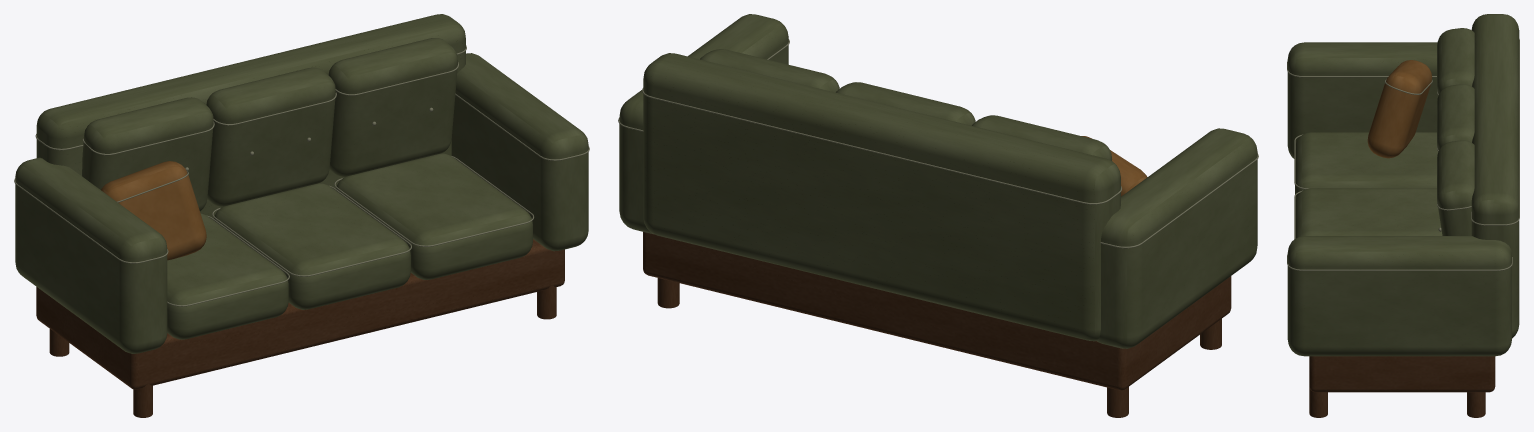
File: couch.glb
3 renders of one model, left to right at view 1: azimuth 30°, elevation 25°; view 2: azimuth 150°, elevation 25°; view 3: azimuth 270°, elevation 25°, orthographic. The views are drawn at different scales.
Visible parts, largest first — view 1: Walnut lower sofa frame, Upholstered arm, Upholstered arm.001, Seat cushion.001, Seat cushion.002, Back cushion.001, Back cushion.002, Upholstered rear frame, Seat cushion, Back cushion, Loose faded ochre pillow, Seat cushion / stitched piping.001 (+3 smaller); view 2: Upholstered rear frame, Walnut lower sofa frame, Upholstered arm, Upholstered arm.001, Back cushion, Back cushion.001, Back cushion.002, Upholstered rear frame / stitched piping, Loose faded ochre pillow, Tapered timber foot.003, Tapered timber foot.001; view 3: Upholstered arm.001, Upholstered rear frame, Upholstered arm, Seat cushion, Walnut lower sofa frame, Seat cushion.001, Loose faded ochre pillow, Back cushion.002, Back cushion, Back cushion.001, Tapered timber foot.002, Tapered timber foot.003 (+2 smaller).
Boxes of the visible parts, <box> form: Walnut lower sofa frame: <box>36,239,564,389</box>; Upholstered arm: <box>15,157,167,353</box>; Upholstered arm.001: <box>451,53,588,251</box>; Seat cushion.001: <box>214,183,410,309</box>; Seat cushion.002: <box>336,153,532,279</box>; Back cushion.001: <box>206,67,335,206</box>; Back cushion.002: <box>328,38,457,176</box>; Upholstered rear frame: <box>36,14,465,218</box>; Seat cushion: <box>167,213,288,339</box>; Back cushion: <box>82,97,213,211</box>; Loose faded ochre pillow: <box>101,161,206,260</box>; Seat cushion / stitched piping.001: <box>212,185,411,276</box>; Upholstered rear frame: <box>643,53,1120,341</box>; Walnut lower sofa frame: <box>643,232,1231,390</box>; Upholstered arm: <box>1097,128,1257,348</box>; Upholstered arm.001: <box>619,14,788,234</box>; Back cushion: <box>972,115,1111,160</box>; Back cushion.001: <box>836,82,975,125</box>; Back cushion.002: <box>700,49,839,92</box>; Upholstered rear frame / stitched piping: <box>642,88,1121,204</box>; Loose faded ochre pillow: <box>1081,136,1147,196</box>; Tapered timber foot.003: <box>657,278,679,308</box>; Tapered timber foot.001: <box>1107,387,1128,417</box>; Upholstered arm.001: <box>1287,236,1511,356</box>; Upholstered rear frame: <box>1471,14,1519,338</box>; Upholstered arm: <box>1287,42,1438,158</box>; Seat cushion: <box>1295,132,1438,199</box>; Walnut lower sofa frame: <box>1309,356,1495,392</box>; Seat cushion.001: <box>1295,188,1442,238</box>; Loose faded ochre pillow: <box>1367,60,1432,158</box>; Back cushion.002: <box>1437,140,1474,235</box>; Back cushion: <box>1437,28,1474,95</box>; Back cushion.001: <box>1437,84,1474,151</box>; Tapered timber foot.002: <box>1309,387,1327,417</box>; Tapered timber foot.003: <box>1467,392,1485,417</box>.
Size of the model in its own units: 2.14 by 1.01 by 0.9756.
Materials: 4 (3 with a texture image).
